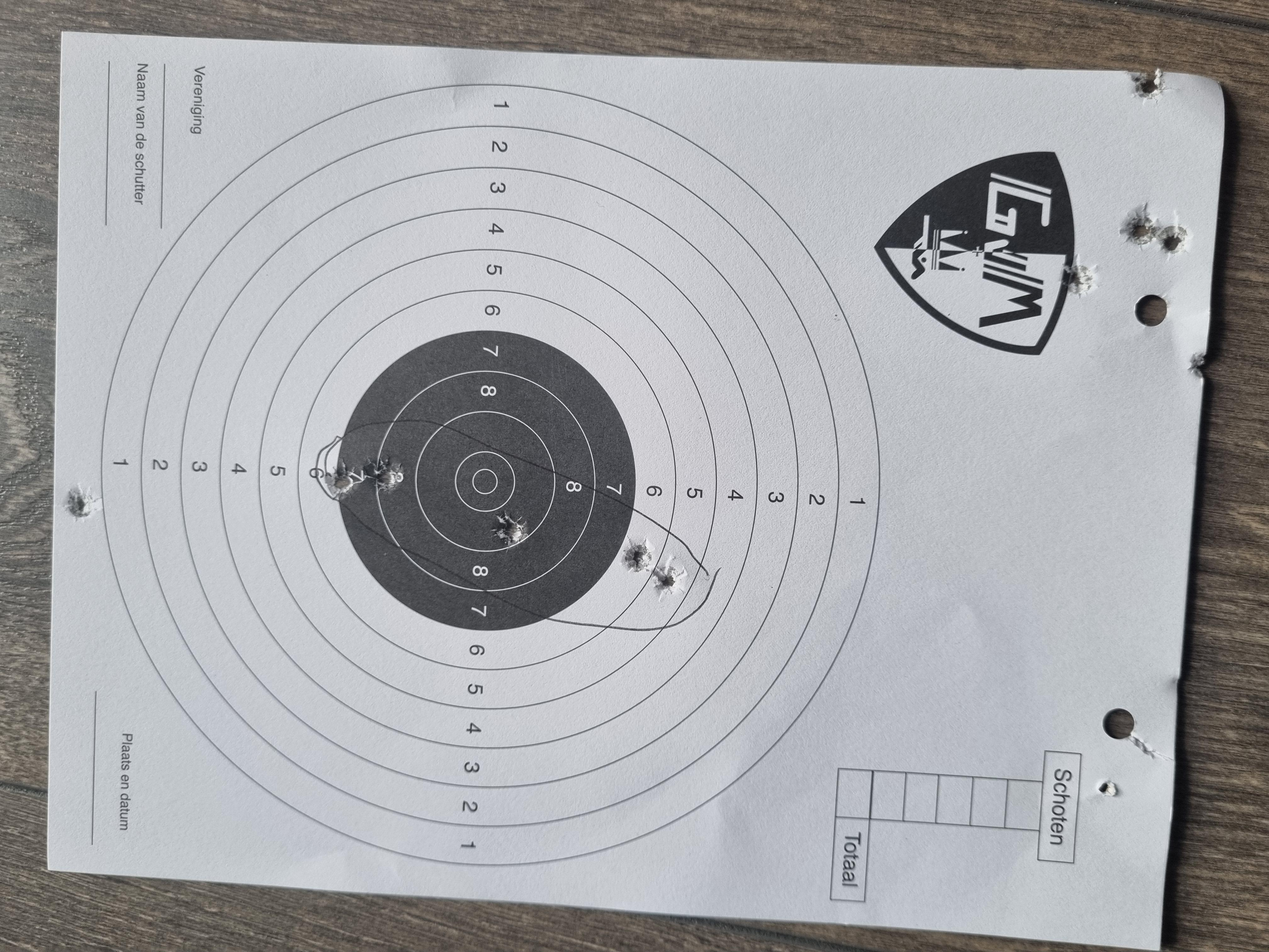hole: (880, 792, 929, 824), (474, 487, 524, 516), (537, 369, 586, 398), (941, 838, 989, 867), (605, 244, 649, 273), (615, 276, 661, 303), (502, 465, 547, 491), (576, 45, 618, 72), (1134, 847, 1172, 873), (929, 869, 967, 890)
